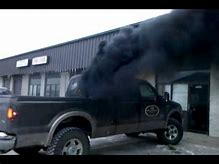smoke: (78, 9, 219, 95)
